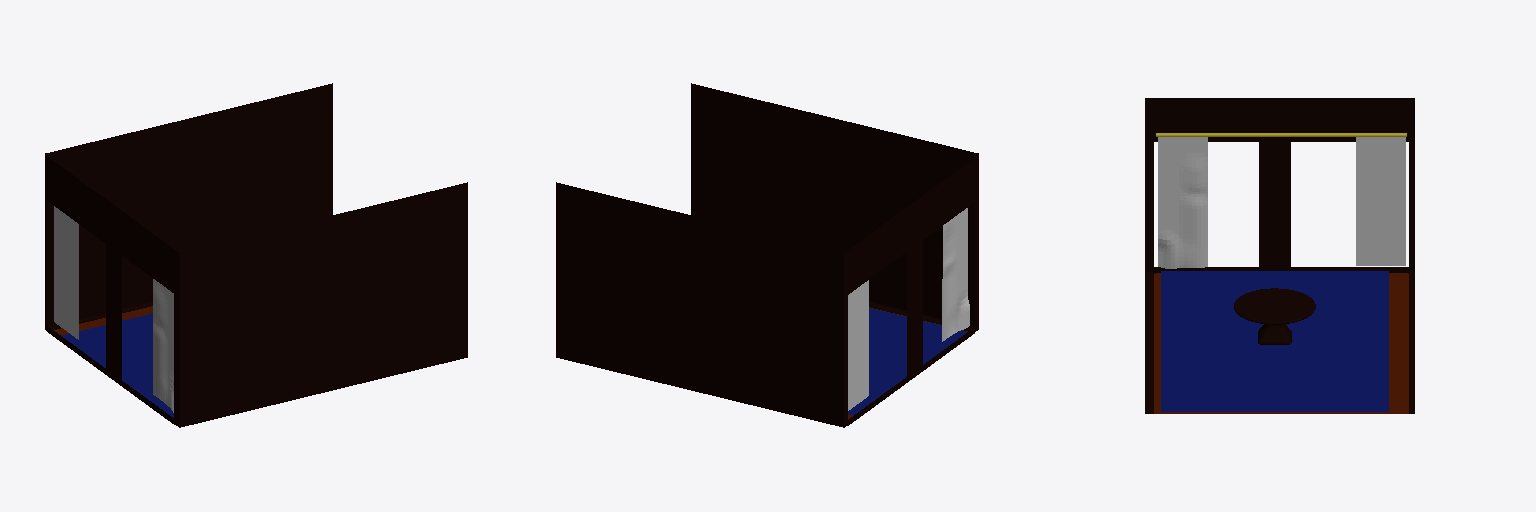
File: RaumFuerCodingobj.obj
3 renders of one model, left to right at view 1: azimuth 30°, elevation 25°; view 2: azimuth 150°, elevation 25°; view 3: azimuth 270°, elevation 25°, orthographic.
Visible parts, largest first — view 1: Hauswand, Teppich, Gardine2, Gardine1; view 2: Hauswand, Teppich, Gardine1, Gardine2; view 3: Teppich, Hauswand, Gardine1, Gardine2, Hausboden, Tischplatte, Gardinenstange, Tisch.
Boxes of the visible parts, x1=… form: Hauswand: x1=45, y1=83, x2=467, y2=427; Teppich: x1=62, y1=313, x2=173, y2=417; Gardine2: x1=54, y1=206, x2=78, y2=339; Gardine1: x1=153, y1=279, x2=173, y2=412; Hauswand: x1=556, y1=83, x2=978, y2=427; Teppich: x1=848, y1=308, x2=966, y2=415; Gardine1: x1=942, y1=208, x2=969, y2=341; Gardine2: x1=848, y1=280, x2=868, y2=410; Teppich: x1=1161, y1=271, x2=1388, y2=411; Hauswand: x1=1145, y1=98, x2=1414, y2=413; Gardine1: x1=1158, y1=137, x2=1207, y2=268; Gardine2: x1=1356, y1=137, x2=1405, y2=265; Hausboden: x1=1154, y1=273, x2=1408, y2=413; Tischplatte: x1=1234, y1=288, x2=1315, y2=324; Gardinenstange: x1=1156, y1=133, x2=1406, y2=136; Tisch: x1=1258, y1=324, x2=1291, y2=344.
Size of the model in its own units: 18.38 by 10.7 by 14.91.